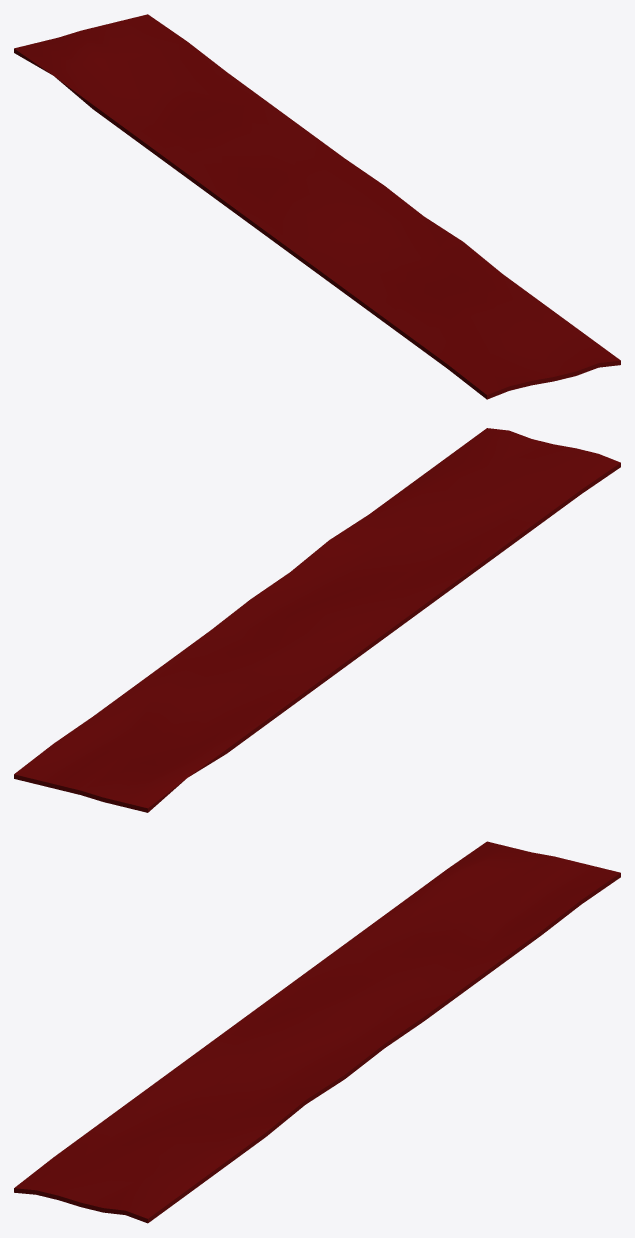
The model's file is Red_Carpet.fbx.
The picture shows the model from 3 angles, top to bottom: view 1: azimuth 30°, elevation 25°; view 2: azimuth 150°, elevation 25°; view 3: azimuth 330°, elevation 25°; orthographic projection.
Visible parts, largest first — view 1: Carpet; view 2: Carpet; view 3: Carpet.
Part boxes in pixels (<box>): Carpet: <box>14,14,620,399</box>; Carpet: <box>14,428,620,812</box>; Carpet: <box>14,841,620,1223</box>.
Size of the model in its own units: 386 by 44.04 by 2363.
